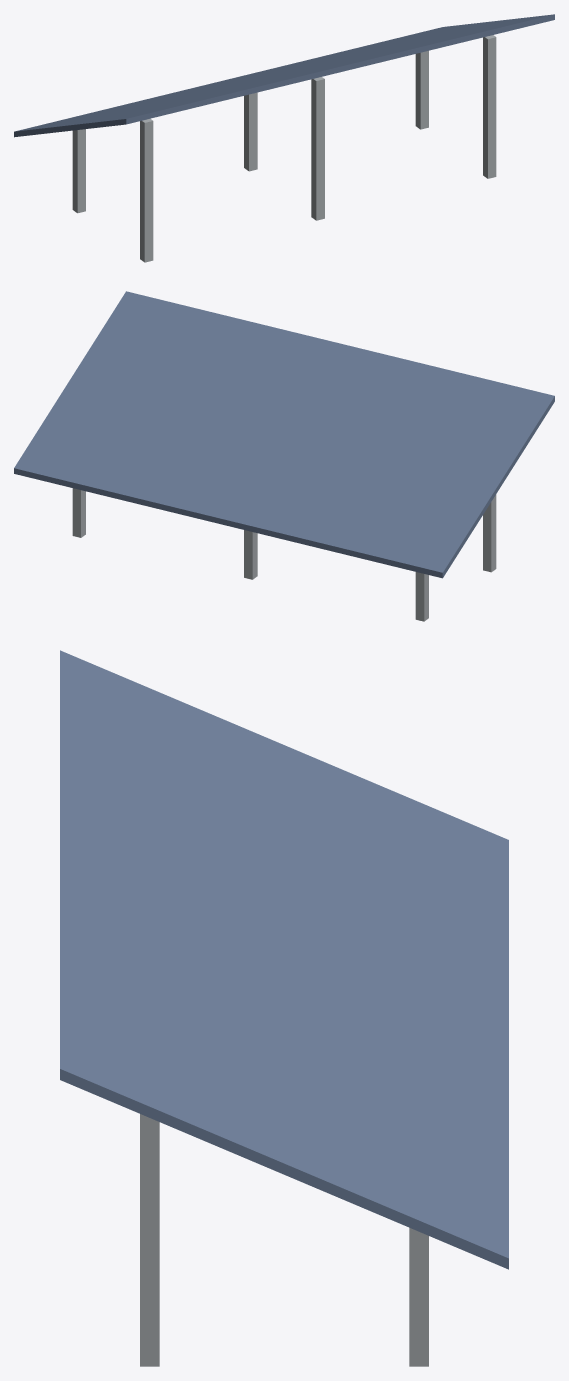
Rendered from solar-table.glb.
The picture shows the model from 3 angles, top to bottom: view 1: azimuth 30°, elevation 25°; view 2: azimuth 150°, elevation 25°; view 3: azimuth 270°, elevation 25°; orthographic projection. The views are drawn at different scales.
Visible parts, largest first — view 1: solar-table; view 2: solar-table; view 3: solar-table.
Boxes of the visible parts, bbox=[...] form: solar-table: bbox=[14, 14, 554, 262]; solar-table: bbox=[14, 291, 554, 621]; solar-table: bbox=[60, 650, 508, 1366].
Size of the model in its own units: 2.68 by 1 by 1.21.
